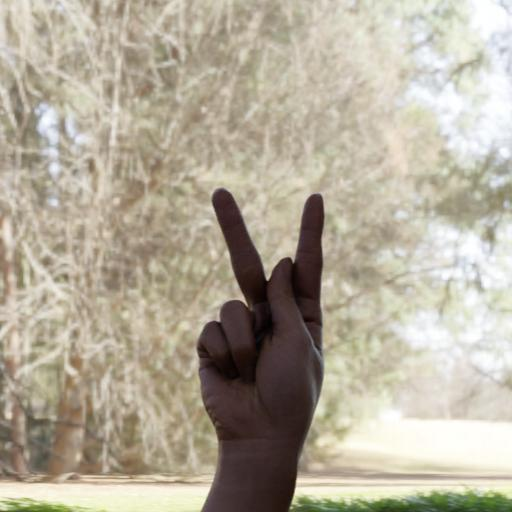K: (187, 181, 332, 447)
